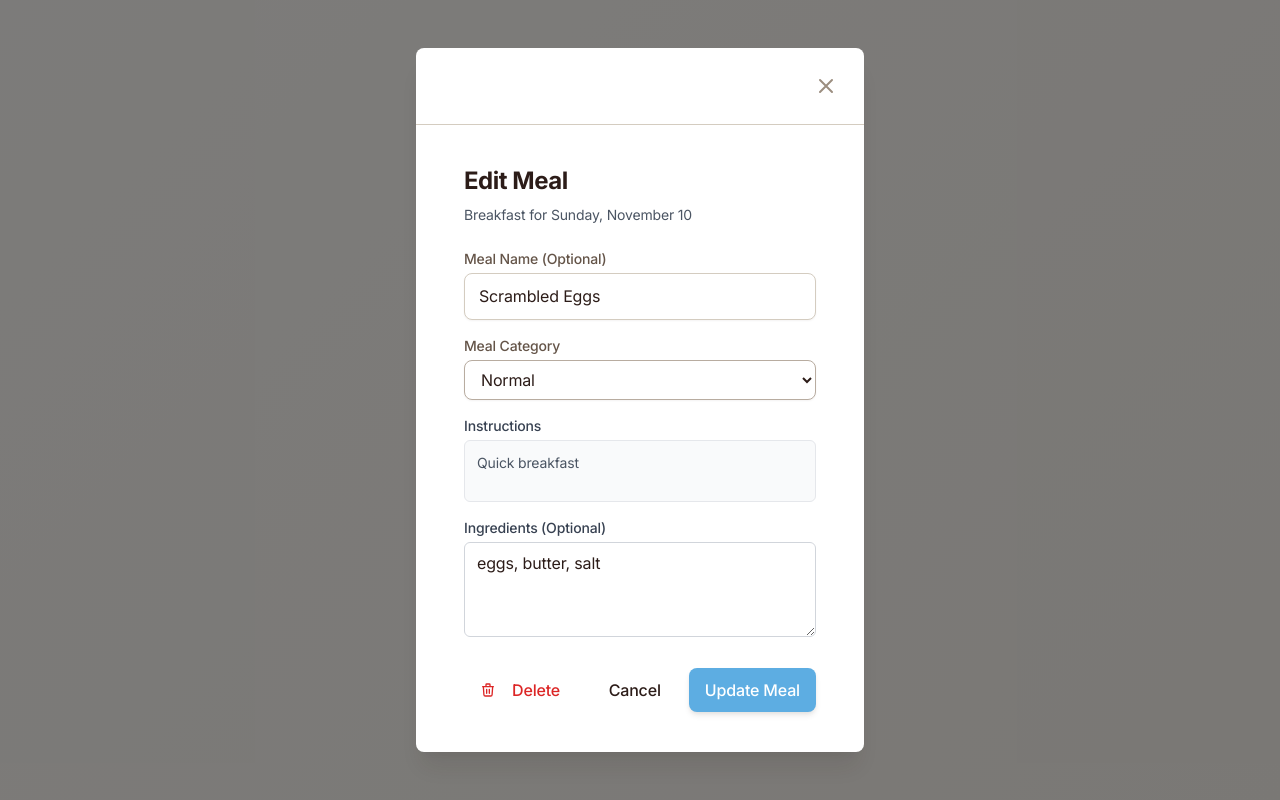
Test: AddMealModal - Delete Functionality › Edit Mode (meal provided) › handles generic delete errors
Click the button "Delete" at point(520, 690), box [464, 668, 576, 712]
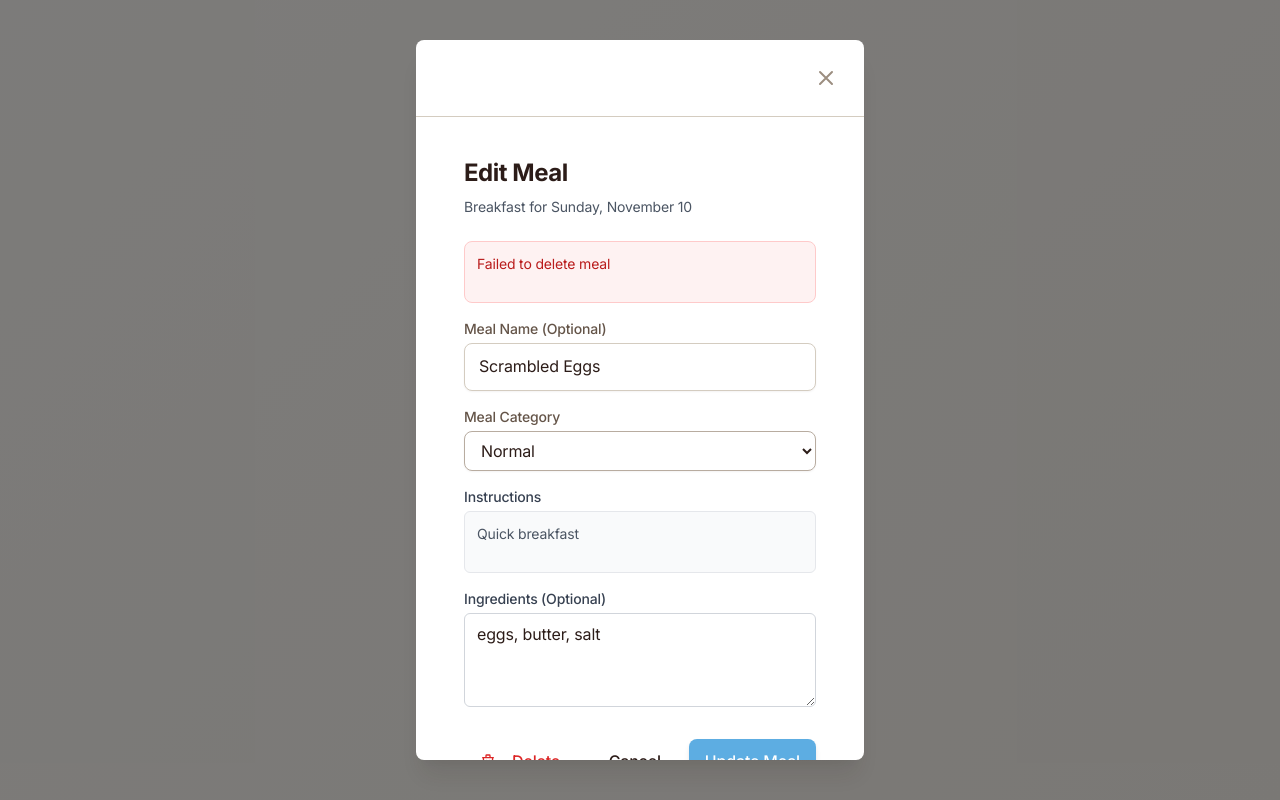
Now the text "Failed to delete meal" is shown, box [477, 255, 610, 272]
